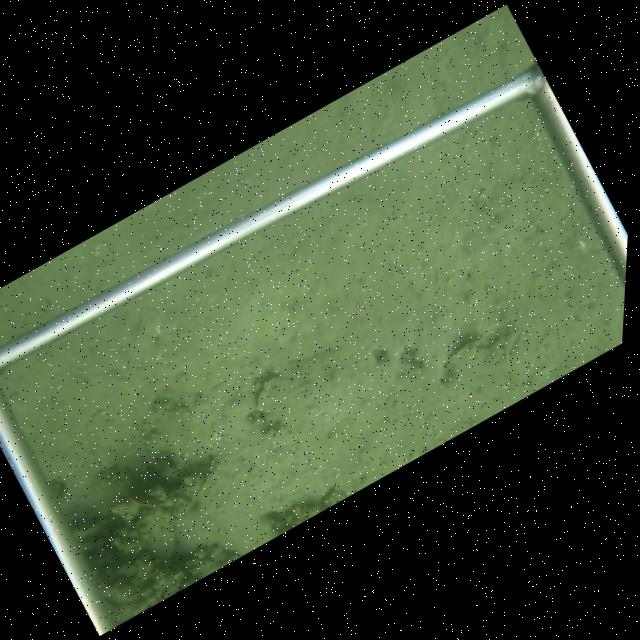Oyster-Indeterminate: (251, 368, 305, 423), (440, 335, 496, 385)
